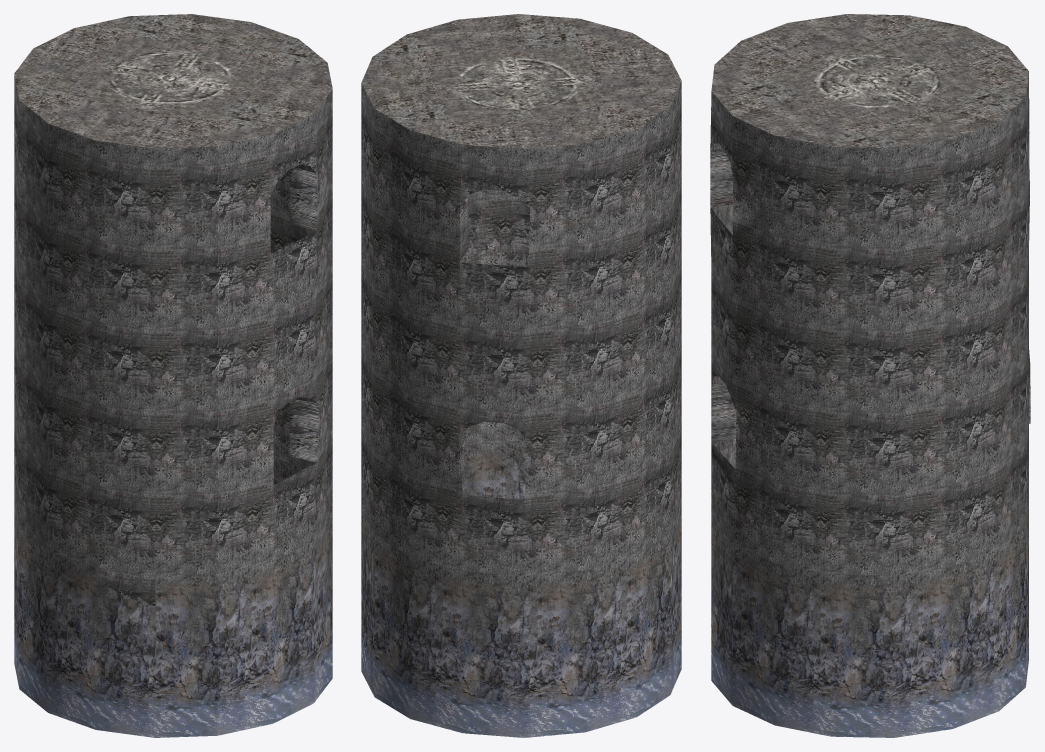
The picture shows the model from 3 angles, left to right: view 1: azimuth 30°, elevation 25°; view 2: azimuth 150°, elevation 25°; view 3: azimuth 270°, elevation 25°; orthographic projection.
Visible parts, largest first — view 1: NZ06; view 2: NZ06; view 3: NZ06.
Part boxes in pixels (x1=…): NZ06: x1=14, y1=14, x2=332, y2=737; NZ06: x1=361, y1=14, x2=681, y2=737; NZ06: x1=710, y1=14, x2=1030, y2=737.
Bounding box in the file's own units: 495 × 1014 × 499.
